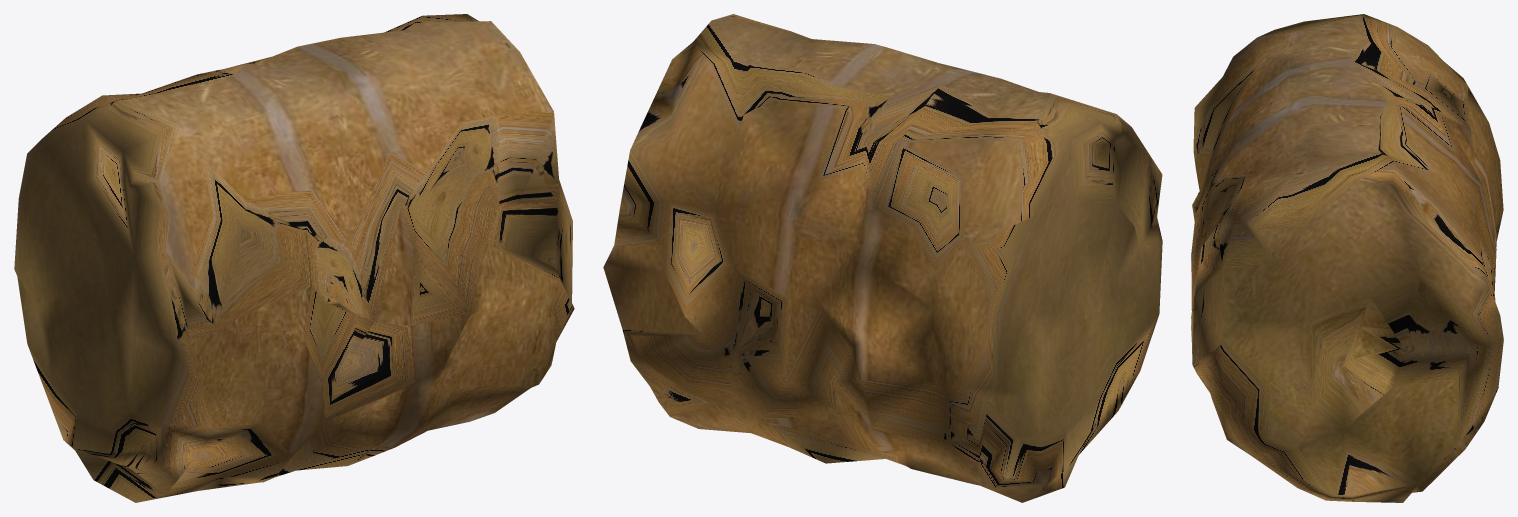
The model's file is meshy_hay_bale_round_lod1.glb.
The picture shows the model from 3 angles, left to right: view 1: azimuth 30°, elevation 25°; view 2: azimuth 150°, elevation 25°; view 3: azimuth 270°, elevation 25°; orthographic projection. The views are drawn at different scales.
Size of the model in its own units: 1.37 by 1.26 by 1.03.
Materials: 1 (1 with a texture image).
